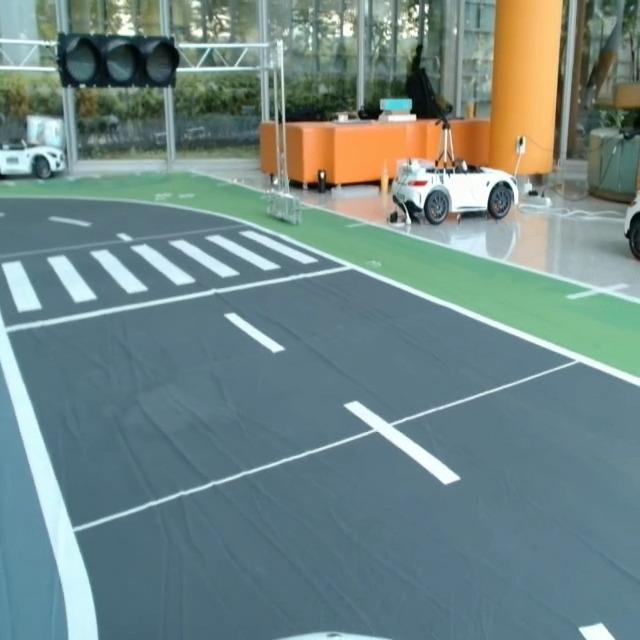traffic-light: (52, 30, 186, 92)
